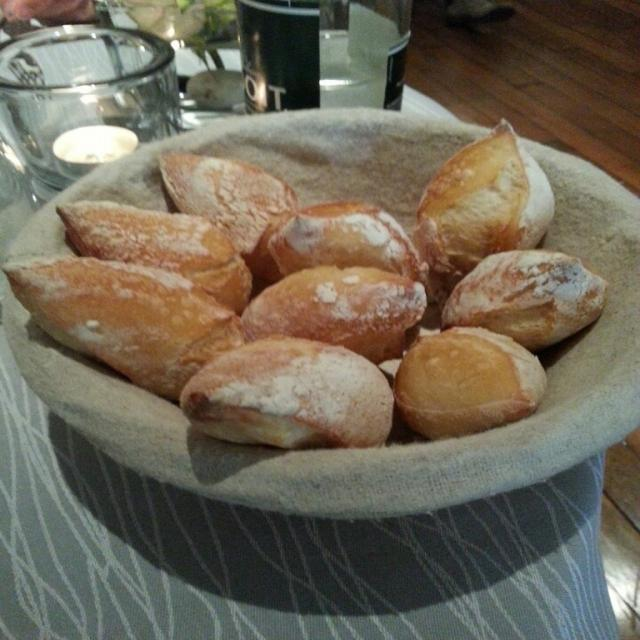Bread: (0, 116, 600, 444), (412, 118, 560, 298)
